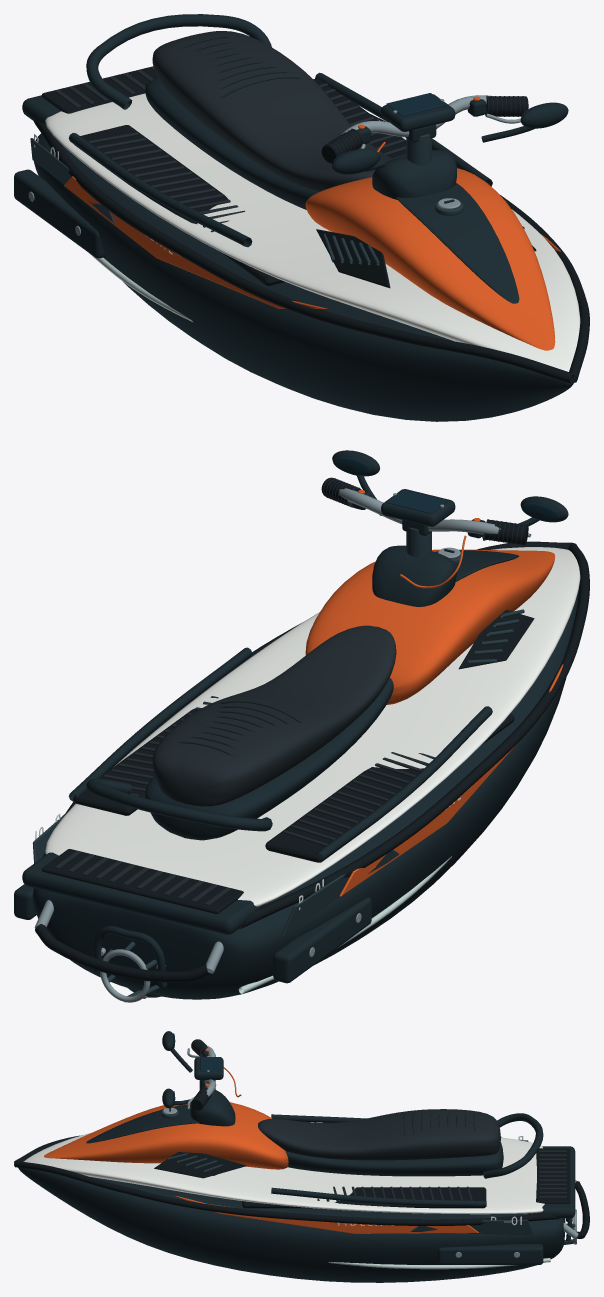
File: Tideline R-01.glb
3 views of the same model, one above another, from view 1: azimuth 30°, elevation 25°; view 2: azimuth 150°, elevation 25°; view 3: azimuth 270°, elevation 25° (orthographic). The views are drawn at different scales.
Visible parts, largest first — view 1: 01 / Deep V composite hull, 02 / Pearl upper deck, 06 / Stepped touring saddle, 03 / Sculpted livery hood, Continuous rub rail, 04 / Recessed center bonnet, 05 / Saddle support, Footwell basin, Passenger grab handle, Rear tracking sponson, 07 / Steering console, Outer footwell coaming (+17 smaller); view 2: 02 / Pearl upper deck, 01 / Deep V composite hull, 06 / Stepped touring saddle, 03 / Sculpted livery hood, 05 / Saddle support, Continuous rub rail, Rear boarding platform, Footwell basin, Boarding traction pad, 07 / Steering console, Rear tracking sponson, Passenger grab handle (+16 smaller); view 3: 01 / Deep V composite hull, 02 / Pearl upper deck, 06 / Stepped touring saddle, 03 / Sculpted livery hood, Continuous rub rail.001, 05 / Saddle support, Footwell basin.001, Rear tracking sponson.001, Livery side spear.001, Boarding traction pad, Outer footwell coaming.001, 04 / Recessed center bonnet (+9 smaller).
Part boxes in pixels (<box>): 01 / Deep V composite hull: <box>34,133,574,421</box>; 02 / Pearl upper deck: <box>45,93,580,371</box>; 06 / Stepped touring saddle: <box>152,31,392,191</box>; 03 / Sculpted livery hood: <box>305,168,555,350</box>; Continuous rub rail: <box>33,120,574,383</box>; 04 / Recessed center bonnet: <box>395,182,519,303</box>; 05 / Saddle support: <box>145,77,319,209</box>; Footwell basin: <box>74,125,284,285</box>; Passenger grab handle: <box>86,14,271,109</box>; Rear tracking sponson: <box>14,169,105,258</box>; 07 / Steering console: <box>372,150,456,199</box>; Outer footwell coaming: <box>68,133,252,247</box>; 02 / Pearl upper deck: <box>45,547,580,906</box>; 01 / Deep V composite hull: <box>32,588,578,999</box>; 06 / Stepped touring saddle: <box>152,625,396,806</box>; 03 / Sculpted livery hood: <box>305,549,555,704</box>; 05 / Saddle support: <box>145,677,393,840</box>; Continuous rub rail: <box>239,542,589,928</box>; Rear boarding platform: <box>22,852,265,934</box>; Footwell basin: <box>265,713,514,862</box>; Boarding traction pad: <box>41,849,243,913</box>; 07 / Steering console: <box>372,545,456,606</box>; Rear tracking sponson: <box>273,897,371,983</box>; Passenger grab handle: <box>86,779,272,831</box>; 01 / Deep V composite hull: <box>18,1167,565,1282</box>; 02 / Pearl upper deck: <box>23,1133,544,1214</box>; 06 / Stepped touring saddle: <box>258,1109,500,1160</box>; 03 / Sculpted livery hood: <box>44,1102,288,1169</box>; Continuous rub rail.001: <box>14,1161,559,1225</box>; 05 / Saddle support: <box>285,1142,503,1176</box>; Footwell basin.001: <box>242,1187,486,1208</box>; Rear tracking sponson.001: <box>438,1244,543,1264</box>; Livery side spear.001: <box>175,1195,478,1233</box>; Boarding traction pad: <box>536,1148,570,1203</box>; Outer footwell coaming.001: <box>271,1187,486,1206</box>; 04 / Recessed center bonnet: <box>86,1104,199,1143</box>.
Bounding box in the file's own units: 1.57 × 1.64 × 4.15.
